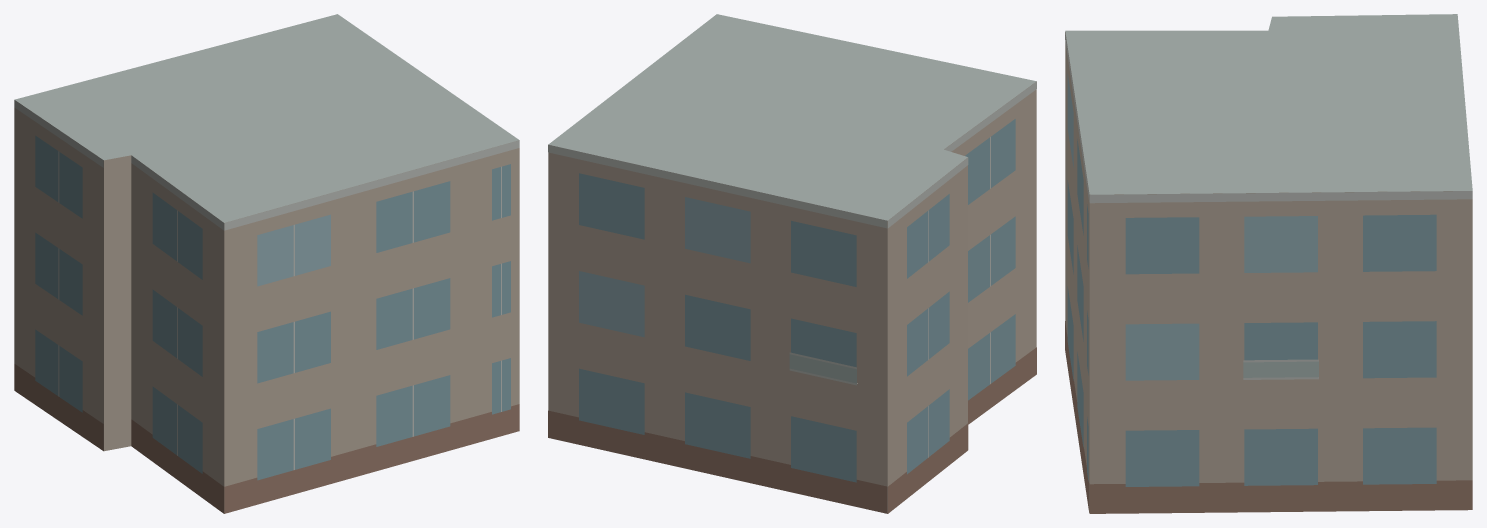
The model's file is survey-upis-33000135.glb.
3 renders of one model, left to right at view 1: azimuth 30°, elevation 25°; view 2: azimuth 150°, elevation 25°; view 3: azimuth 270°, elevation 25°, orthographic. The views are drawn at different scales.
Visible parts, largest first — view 1: survey-upis-33000135.tmp; view 2: survey-upis-33000135.tmp; view 3: survey-upis-33000135.tmp.
Part boxes in pixels (box(x1,y1,x2,y2)): survey-upis-33000135.tmp: box(14, 14, 519, 513); survey-upis-33000135.tmp: box(548, 14, 1036, 513); survey-upis-33000135.tmp: box(1065, 14, 1472, 513).
Bounding box in the file's own units: 11.12 × 9.15 × 10.6.
